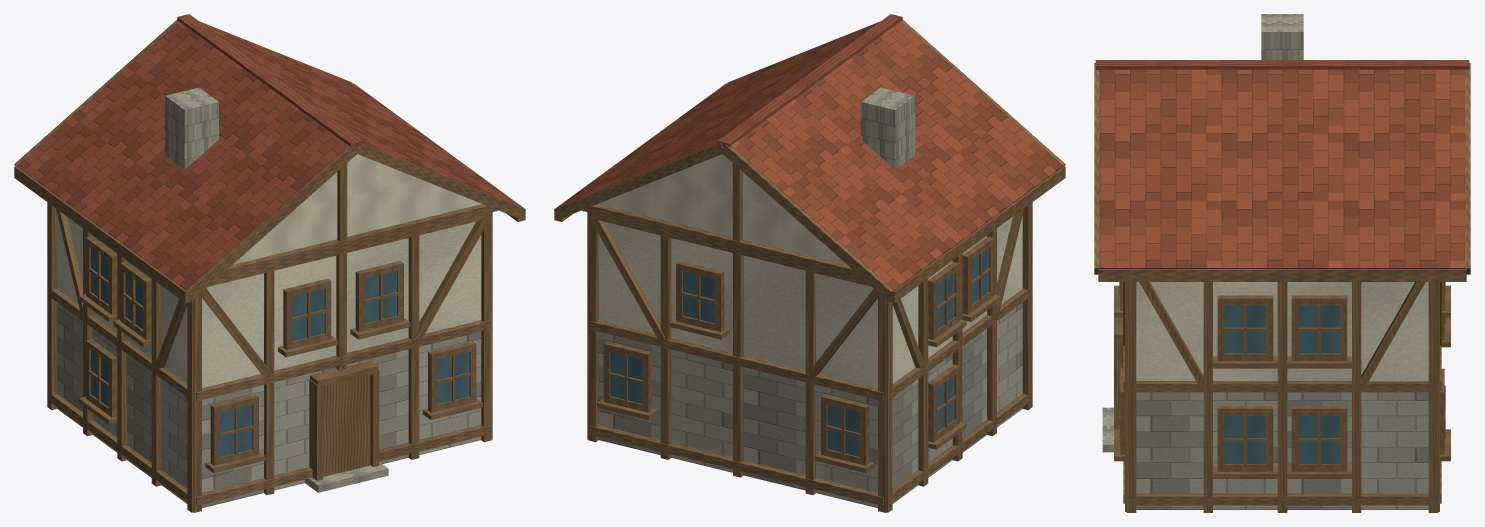
3 renders of one model, left to right at view 1: azimuth 30°, elevation 25°; view 2: azimuth 150°, elevation 25°; view 3: azimuth 270°, elevation 25°, orthographic. The views are drawn at different scales.
Visible parts, largest first — view 1: house-wood, house-roof, house-plaster, house-stone, house-glass; view 2: house-wood, house-roof, house-plaster, house-stone, house-glass; view 3: house-roof, house-wood, house-stone, house-plaster, house-glass.
Boxes of the visible parts, <box> form: house-wood: <box>14,19,525,512</box>; house-roof: <box>16,14,523,290</box>; house-plaster: <box>57,154,481,387</box>; house-stone: <box>57,87,481,507</box>; house-glass: <box>91,248,469,456</box>; house-wood: <box>554,19,1065,512</box>; house-roof: <box>556,14,1063,290</box>; house-plaster: <box>598,154,1022,387</box>; house-stone: <box>598,87,1022,507</box>; house-glass: <box>610,248,988,456</box>; house-roof: <box>1095,60,1469,268</box>; house-wood: <box>1094,63,1470,512</box>; house-stone: <box>1102,14,1428,509</box>; house-plaster: <box>1136,282,1428,380</box>; house-glass: <box>1224,305,1340,463</box>.
Bounding box in the file's own units: 7.98 × 7.72 × 7.1.
5 materials, 5 textured.
